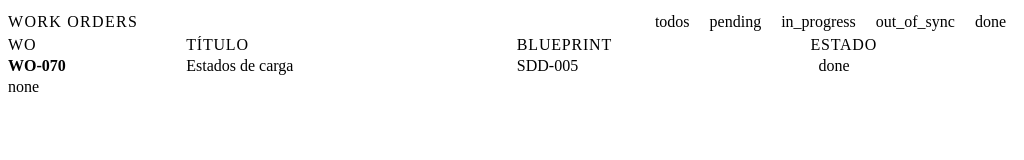
Test: WorkOrderList › clicking a row selects that work order
Click the text "WO-070" at point(37, 66), box [8, 54, 186, 78]
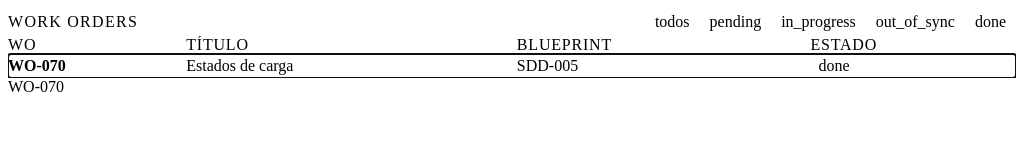
Expected: the text with test id "selected" reads "WO-070", [8, 78, 64, 95]
